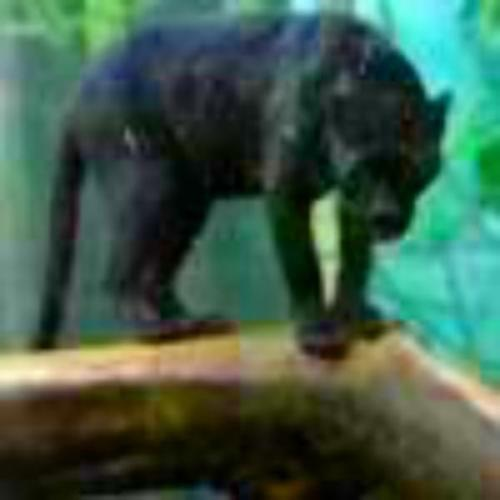panther-endangered: (33, 12, 452, 360)
